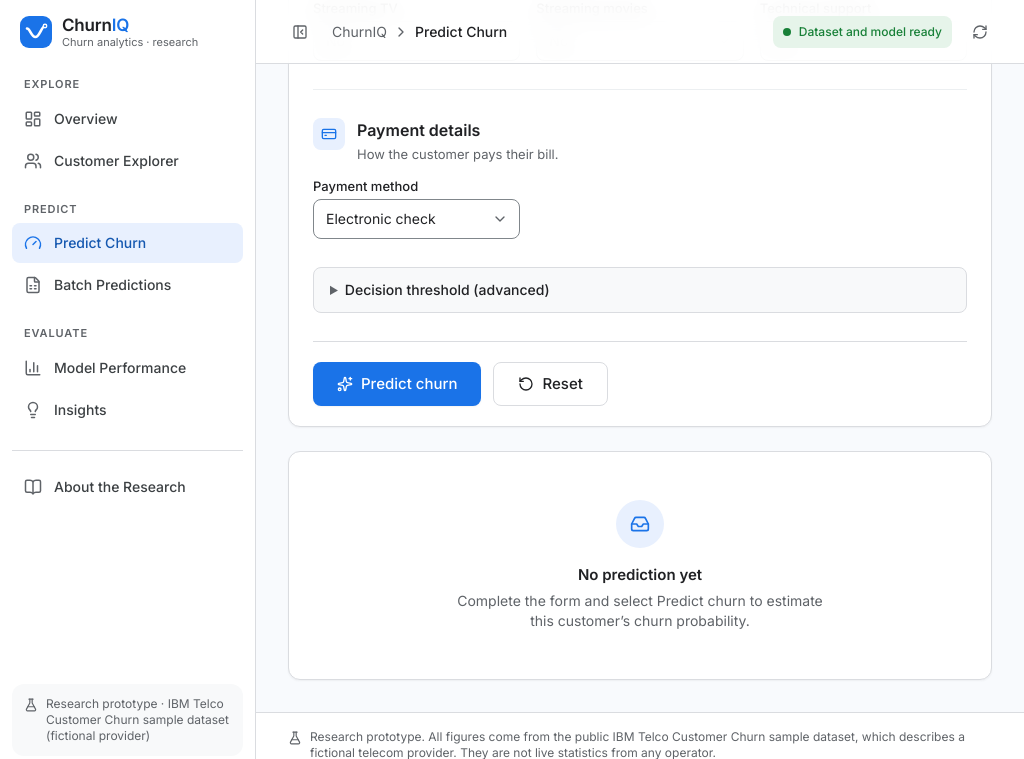
Predict Churn page › shows the server's validation message when the API rejects the request
(page scrolled)
Click the button "Predict churn".
click(397, 384)  # box [313,362,482,406]
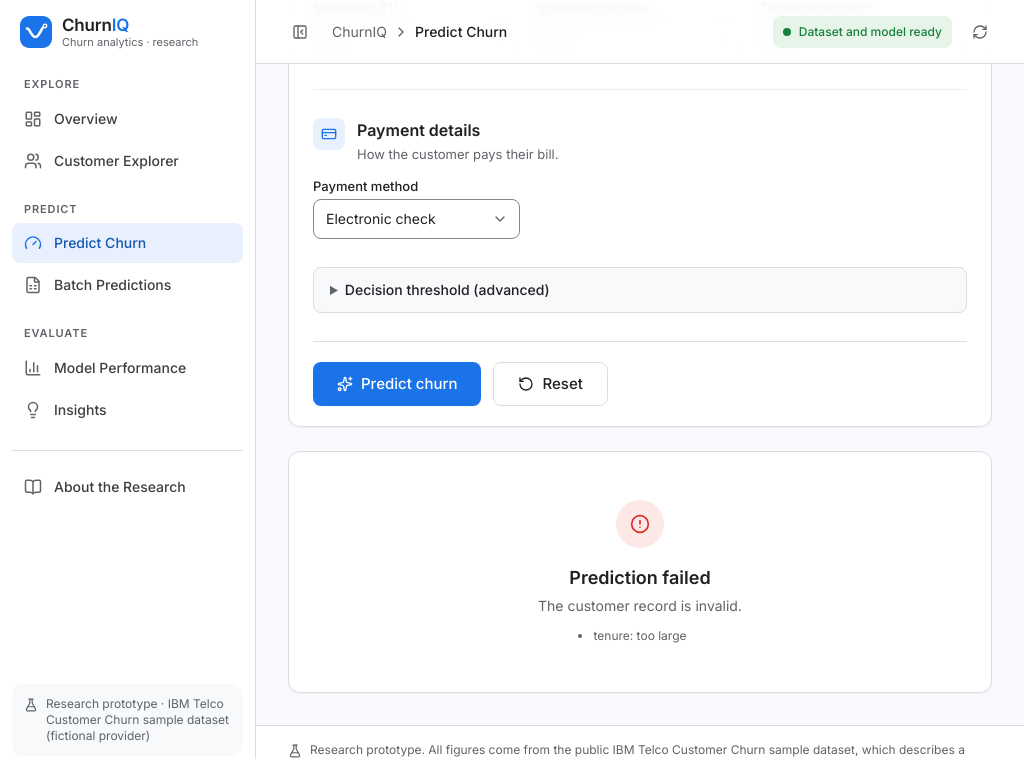
Now the text "The customer record is invalid." is shown, box [538,596,742,616]
